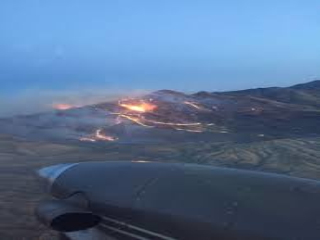fire: (80, 127, 123, 151), (118, 98, 157, 118), (54, 99, 71, 111)
